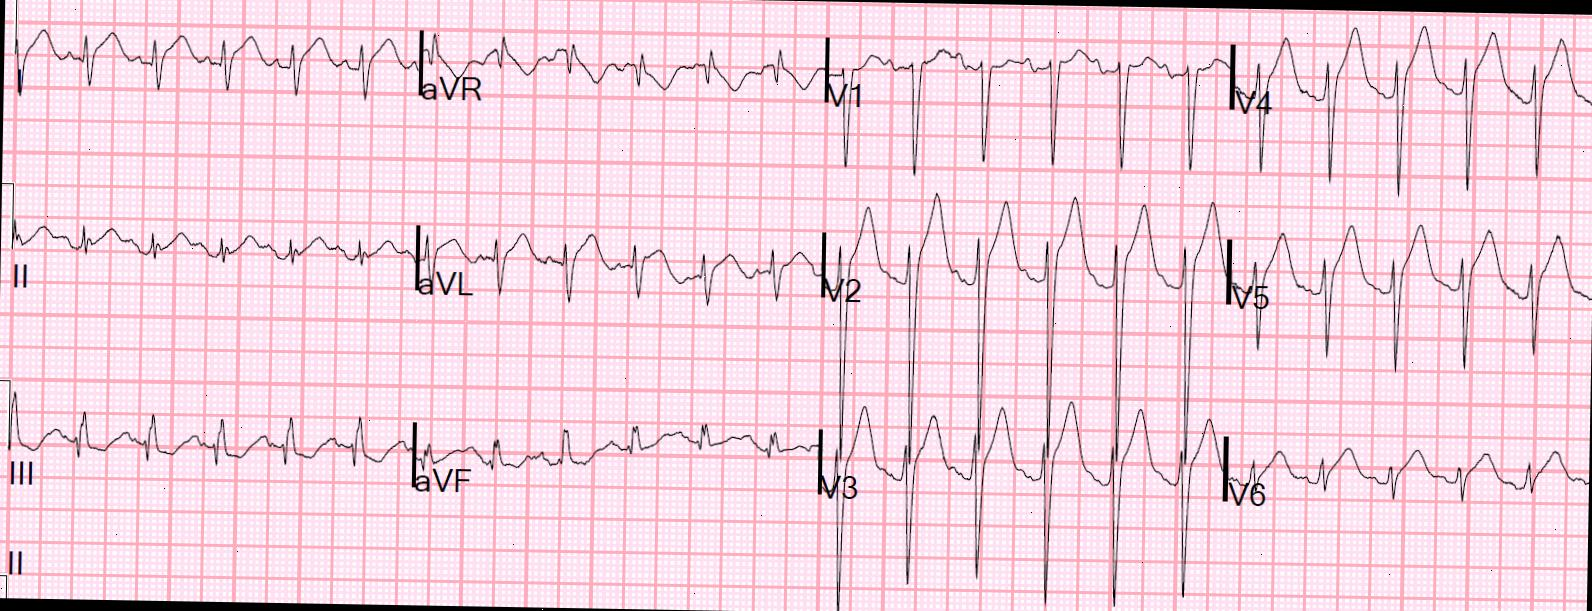Lead_I: (8, 2, 424, 124)
Lead_II: (0, 182, 420, 316)
Lead_III: (0, 374, 417, 513)
Lead_V1: (822, 12, 1229, 186)
Lead_V2: (819, 179, 1232, 470)
Lead_V3: (813, 388, 1225, 611)
Lead_V4: (1228, 8, 1592, 205)
Lead_V5: (1228, 213, 1592, 394)
Lead_V6: (1221, 415, 1590, 564)
Lead_aVF: (416, 398, 821, 525)
Lead_aVL: (414, 196, 826, 326)
Lead_aVR: (417, 4, 826, 135)
